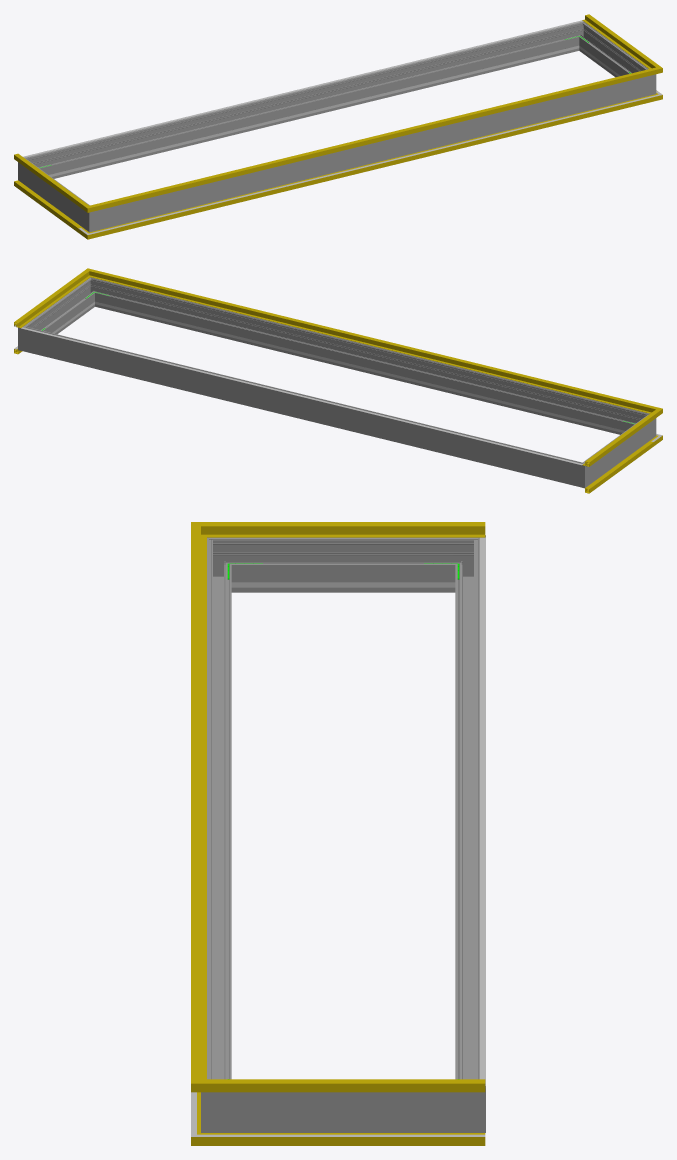
3 renders of one model, top to bottom at view 1: azimuth 30°, elevation 25°; view 2: azimuth 150°, elevation 25°; view 3: azimuth 270°, elevation 25°, orthographic. The views are drawn at different scales.
Parts seen in each view (by area): view 1: 3DGeom-276, 3DGeom-298, 3DGeom-123, 3DGeom-11, 3DGeom-244, 3DGeom-297, 3DGeom-220, 3DGeom-20, 3DGeom-268, 3DGeom-128, 3DGeom-118, 3DGeom-270 (+3 smaller); view 2: 3DGeom-298, 3DGeom-276, 3DGeom-123, 3DGeom-239, 3DGeom-297, 3DGeom-220, 3DGeom-268, 3DGeom-128, 3DGeom-118, 3DGeom-278, 3DGeom-6, 3DGeom-284 (+1 smaller); view 3: 3DGeom-276, 3DGeom-298, 3DGeom-268, 3DGeom-297, 3DGeom-123, 3DGeom-118, 3DGeom-128, 3DGeom-220, 3DGeom-16, 3DGeom-284, 3DGeom-290, 3DGeom-278 (+2 smaller).
Part boxes in pixels (x1,y1,x2,y2): 3DGeom-276: (35, 24, 576, 178); 3DGeom-298: (105, 78, 640, 228); 3DGeom-123: (101, 70, 646, 208); 3DGeom-11: (101, 97, 646, 235); 3DGeom-244: (54, 49, 563, 175); 3DGeom-297: (580, 27, 644, 77); 3DGeom-220: (23, 20, 583, 157); 3DGeom-20: (102, 97, 646, 231); 3DGeom-268: (27, 163, 84, 225); 3DGeom-128: (582, 14, 653, 67); 3DGeom-118: (14, 153, 82, 205); 3DGeom-270: (80, 202, 105, 232); 3DGeom-298: (97, 280, 638, 434); 3DGeom-276: (34, 329, 571, 484); 3DGeom-123: (99, 272, 646, 411); 3DGeom-239: (110, 305, 619, 431); 3DGeom-297: (30, 283, 93, 334); 3DGeom-220: (21, 327, 582, 465); 3DGeom-268: (589, 419, 646, 481); 3DGeom-128: (14, 275, 84, 328); 3DGeom-118: (582, 414, 653, 466); 3DGeom-278: (569, 458, 593, 488); 3DGeom-6: (585, 441, 653, 493); 3DGeom-284: (18, 321, 36, 353); 3DGeom-276: (455, 550, 479, 1079); 3DGeom-298: (207, 550, 231, 1079); 3DGeom-268: (237, 537, 449, 592); 3DGeom-297: (237, 1092, 449, 1132); 3DGeom-123: (191, 537, 206, 1076); 3DGeom-118: (227, 522, 485, 537); 3DGeom-128: (227, 1079, 485, 1092); 3DGeom-220: (480, 537, 485, 1085); 3DGeom-16: (227, 1133, 485, 1145); 3DGeom-284: (449, 1072, 485, 1132); 3DGeom-290: (201, 1072, 237, 1132); 3DGeom-278: (449, 535, 485, 592).
Bounding box in the file's own units: 5.49 × 0.2836 × 1.22.
